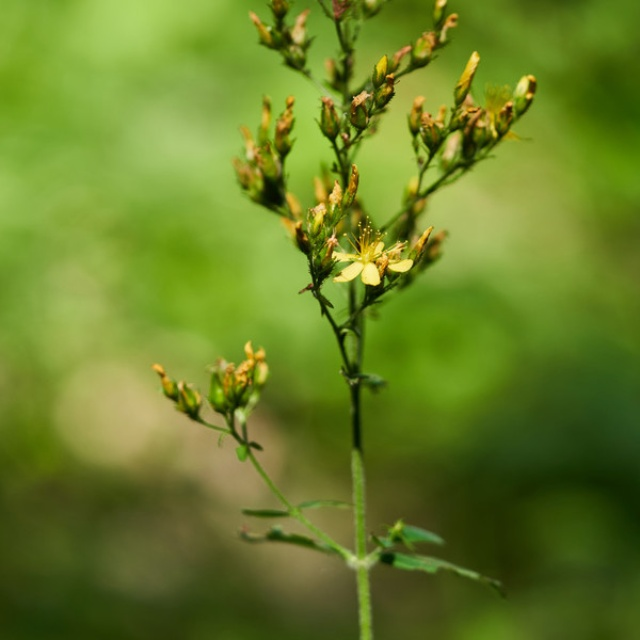obstacle: (125, 9, 501, 614)
